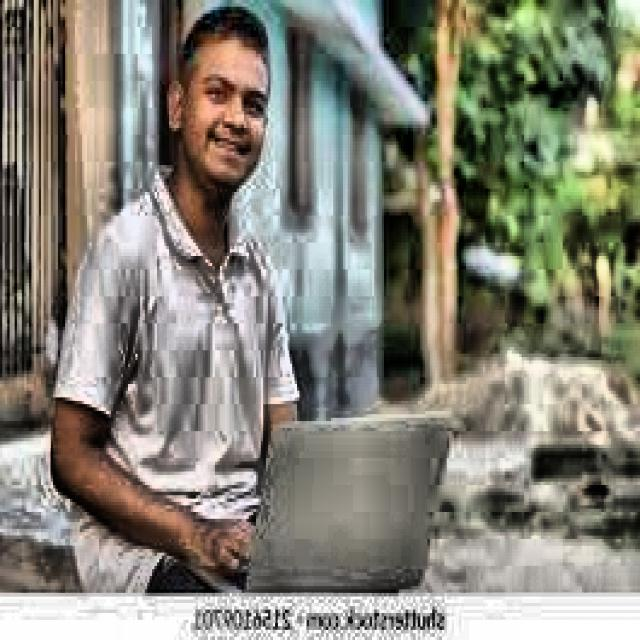Human: (57, 23, 309, 598)
